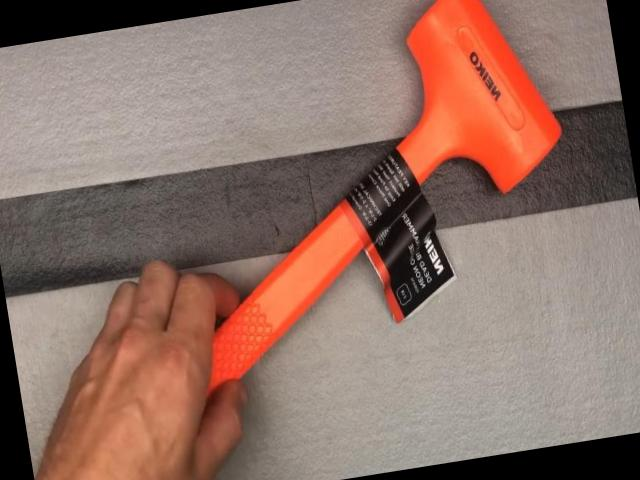hammer: (32, 0, 603, 480)
